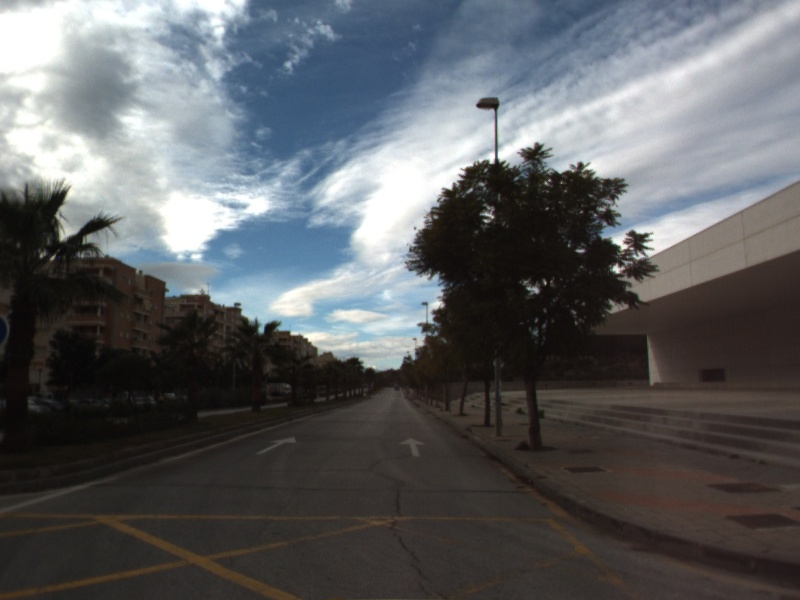STRAIGHT: (254, 434, 298, 456), (398, 436, 428, 459)
